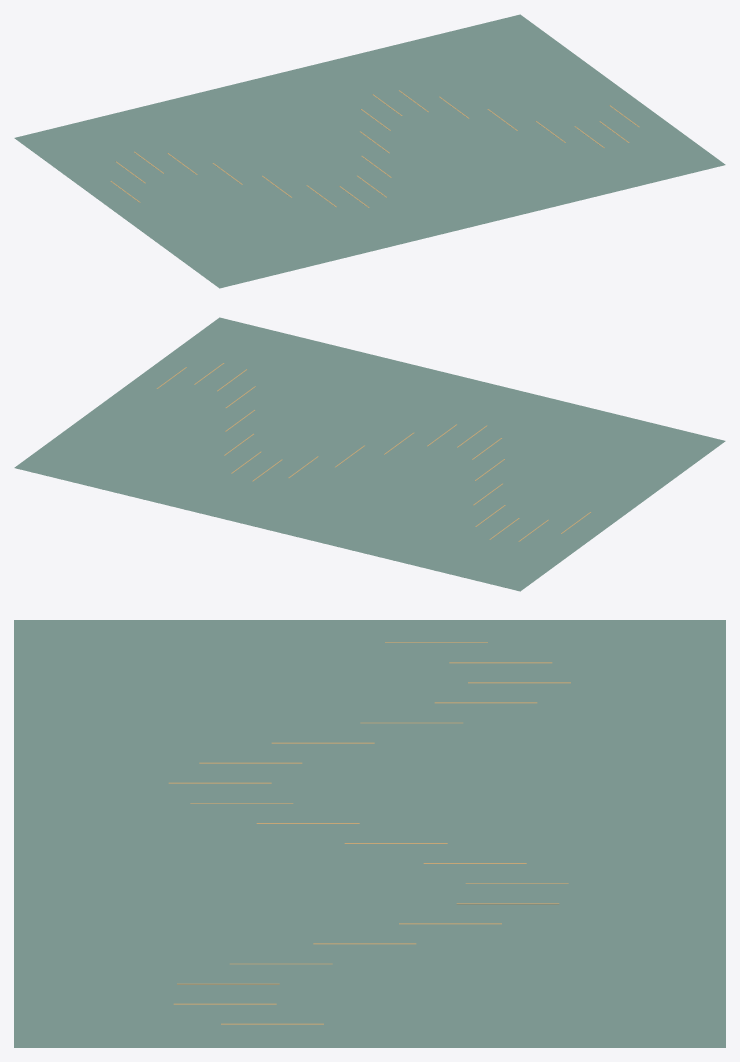
File: 243_L118_L6_LayerReference.glb
3 renders of one model, top to bottom at view 1: azimuth 30°, elevation 25°; view 2: azimuth 150°, elevation 25°; view 3: azimuth 270°, elevation 25°, orthographic. The views are drawn at different scales.
Visible parts, largest first — view 1: 0000__PSMAT__dielectric; view 2: 0000__PSMAT__dielectric; view 3: 0000__PSMAT__dielectric.
Part boxes in pixels (x1,y1,x2,y2): 0000__PSMAT__dielectric: (14,14,725,288); 0000__PSMAT__dielectric: (14,317,725,591); 0000__PSMAT__dielectric: (14,620,725,1047).
Size of the model in its own units: 0.472 by 0.000539 by 0.332.
